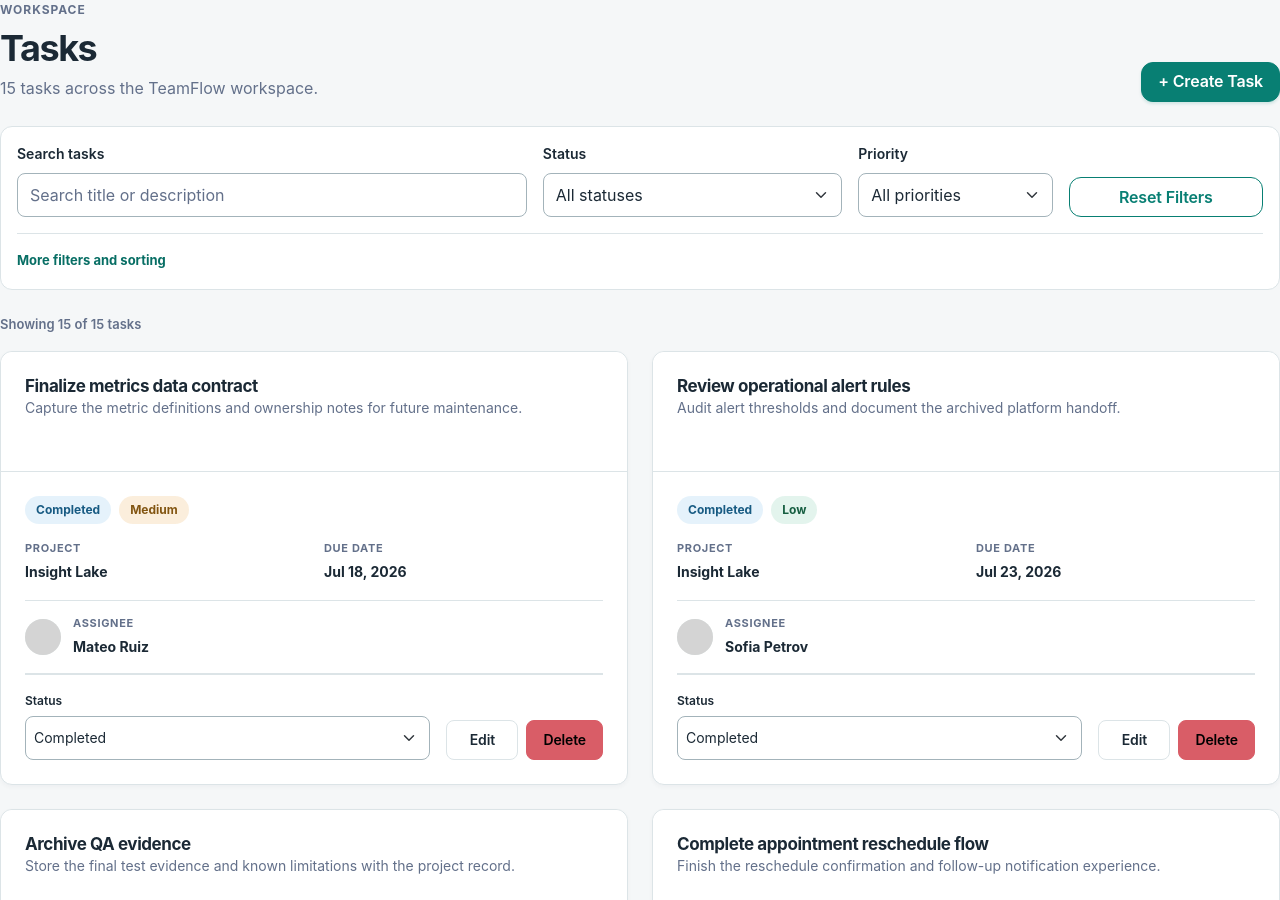
task workflows › renders seeded tasks and creates a new task
The image size is (1280, 900).
Click the button "+ Create Task" at (1211, 82), box [1141, 62, 1279, 102]
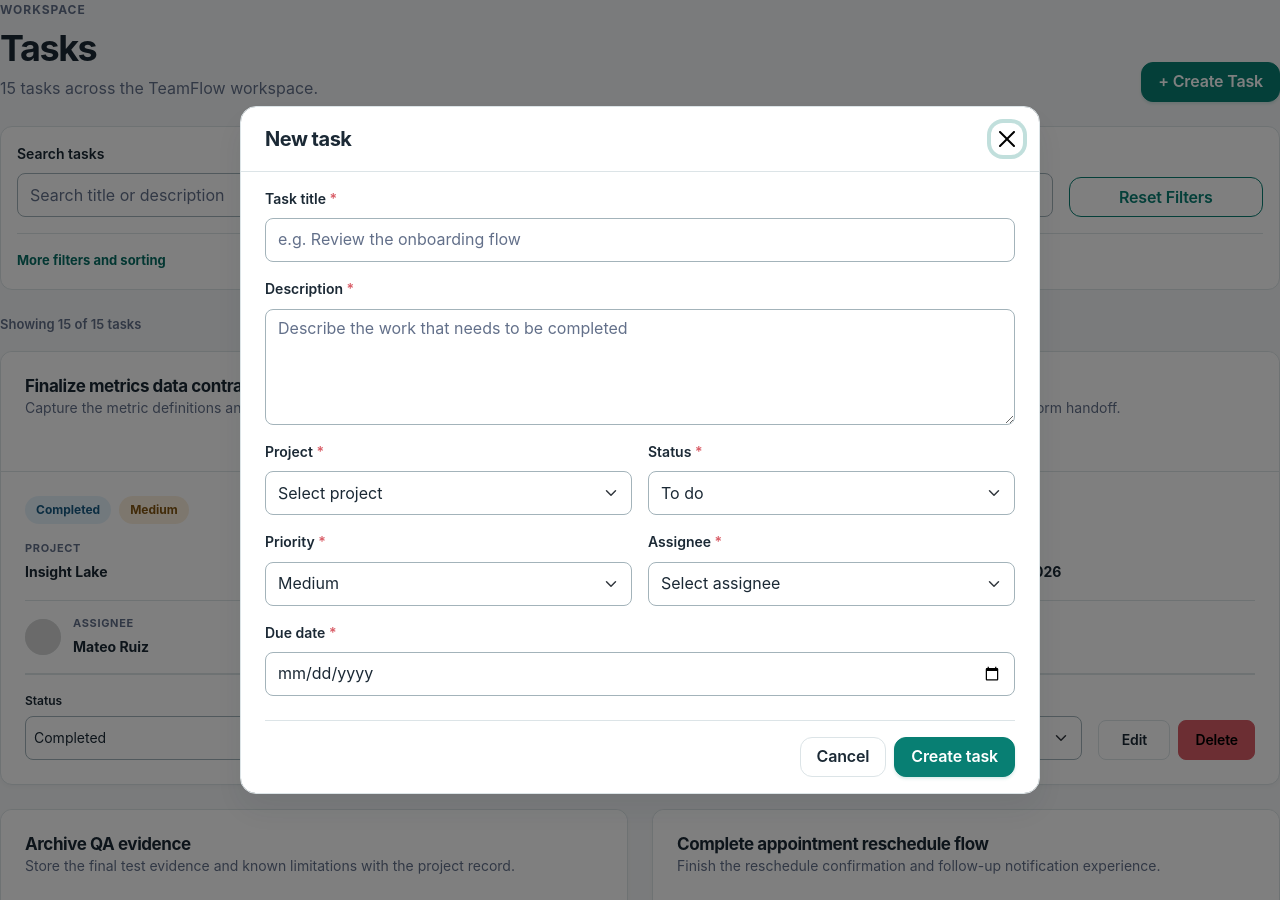
Type "Write release checklist" into the field labelled "Task title *" at (640, 240), box [265, 218, 1015, 262]
Type "Document the final release steps." into the text box labelled "Description *" at (640, 367), box [265, 309, 1015, 425]
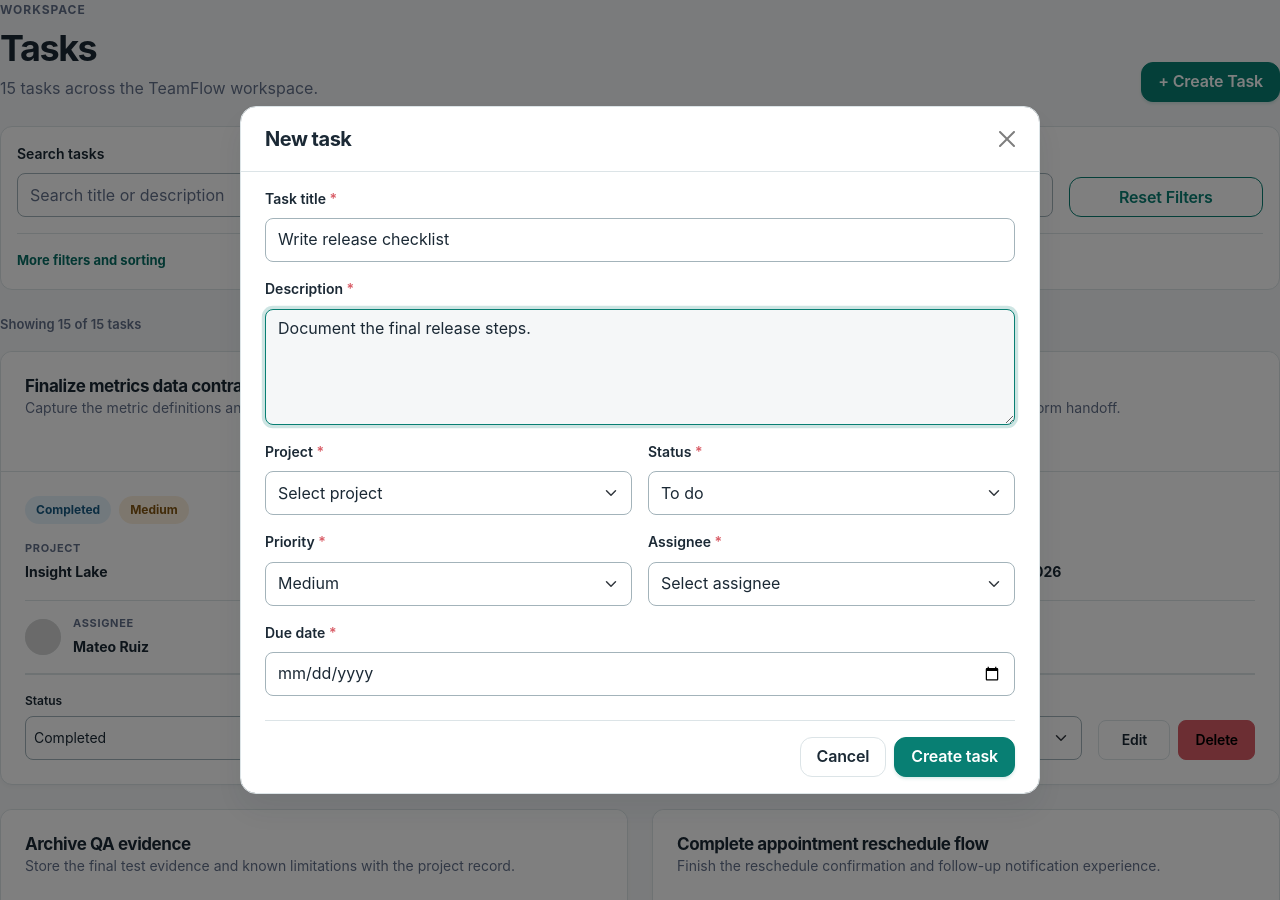
Select "Marketplace Refresh" in the dropdown labelled "Project *" at (448, 493), box [265, 471, 632, 515]
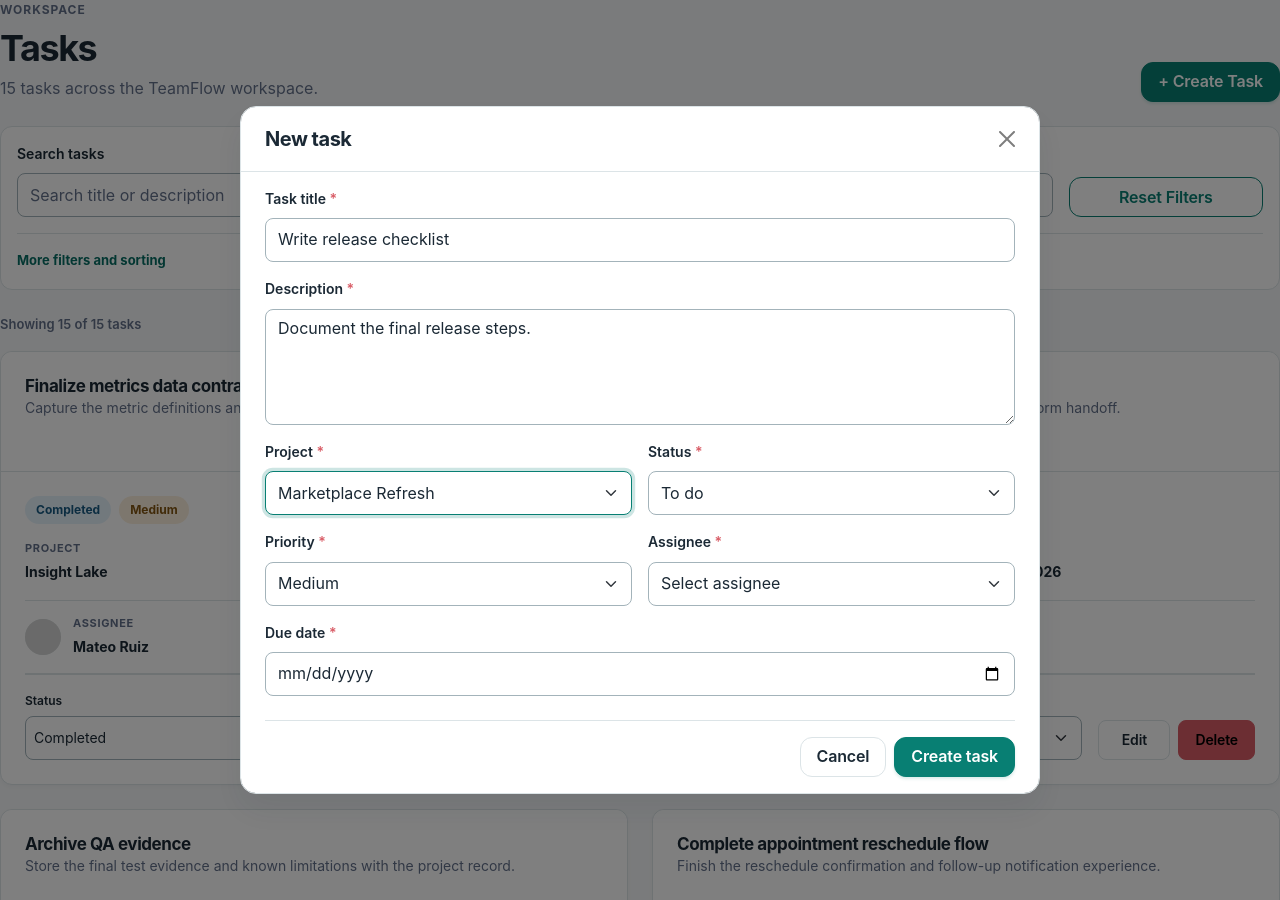
Select "Amelia Chen — Frontend Developer" in the dropdown labelled "Assignee *" at (832, 584), box [648, 562, 1015, 606]
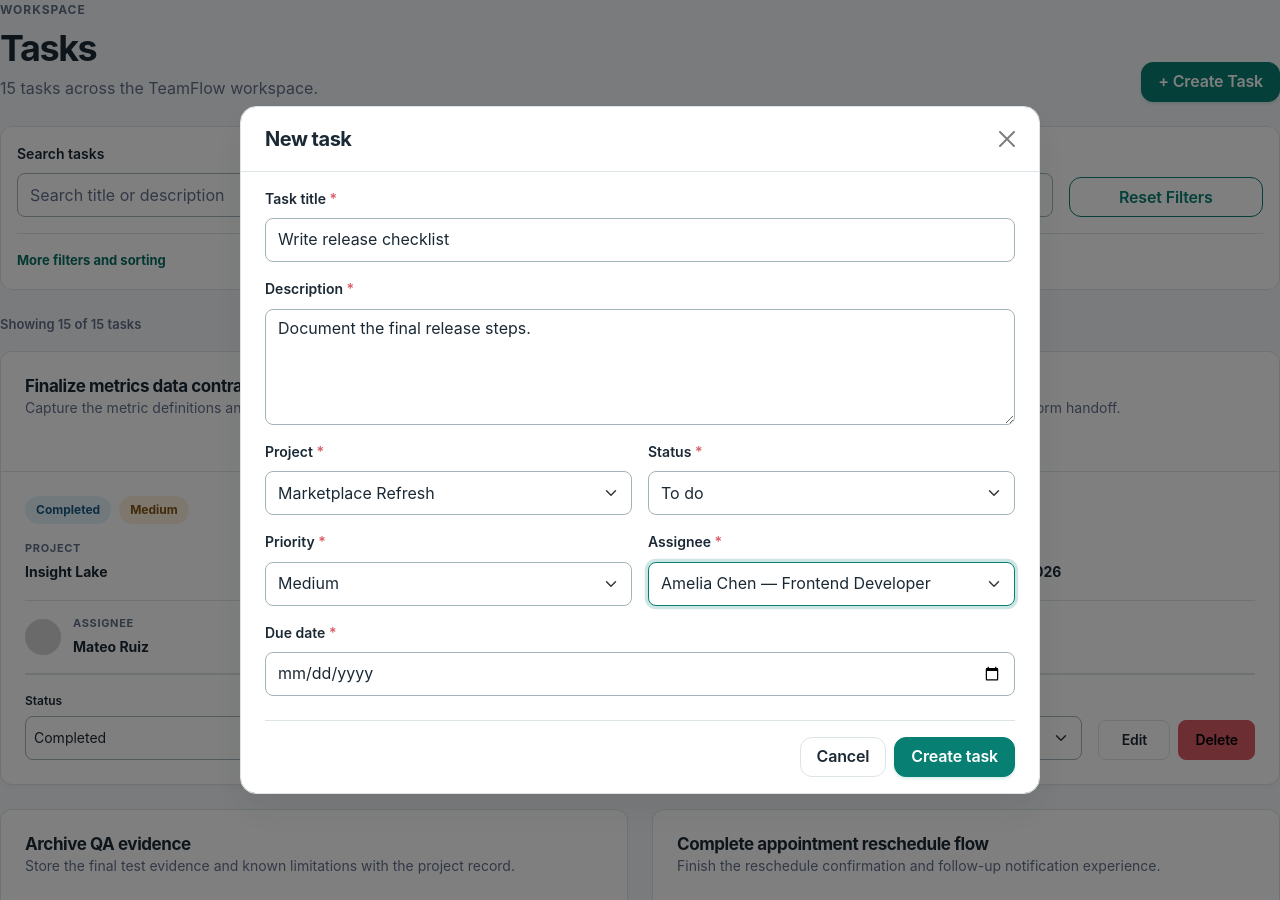
Type "2027-02-15" into the date field labelled "Due date *" at (640, 674), box [265, 652, 1015, 696]
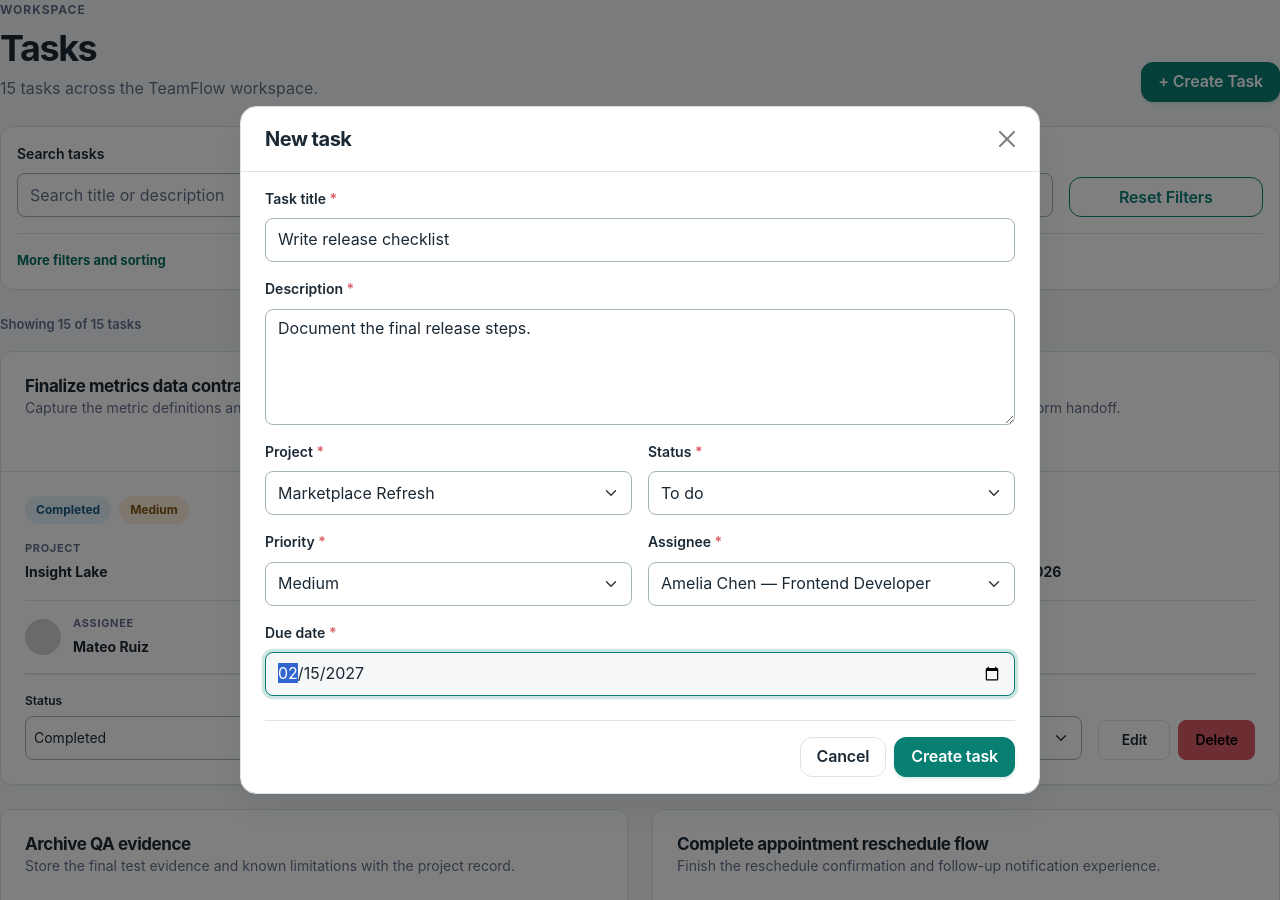
Click the button "Create task" at (955, 757), box [894, 737, 1015, 777]
(page scrolled)
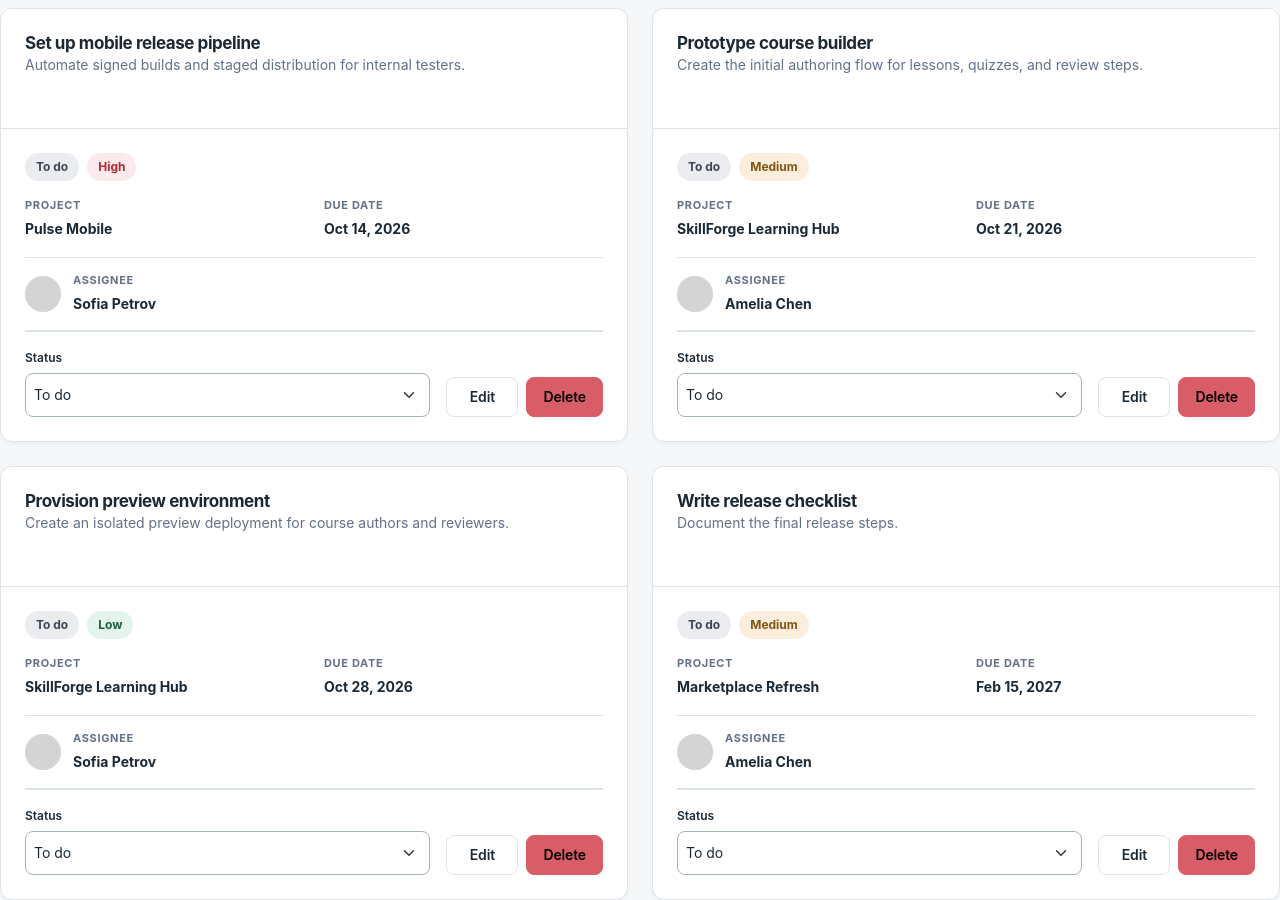
Result: the heading "Write release checklist" is shown at [677, 491, 857, 511]
